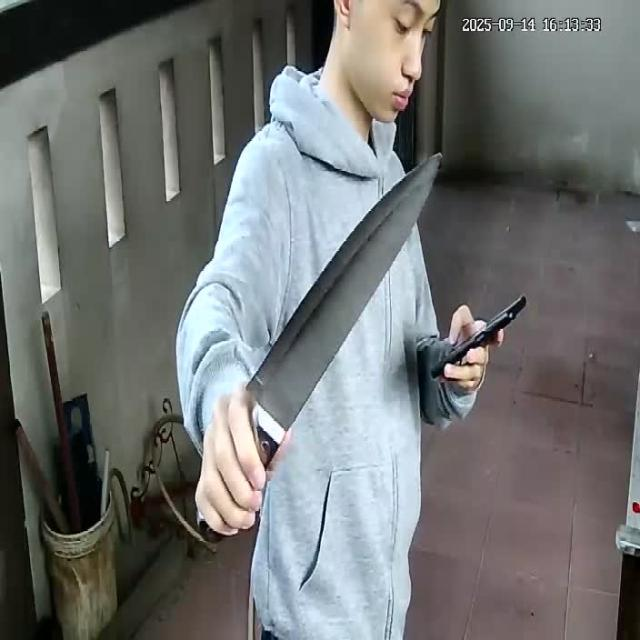senjata_tajam: (250, 149, 446, 462)
